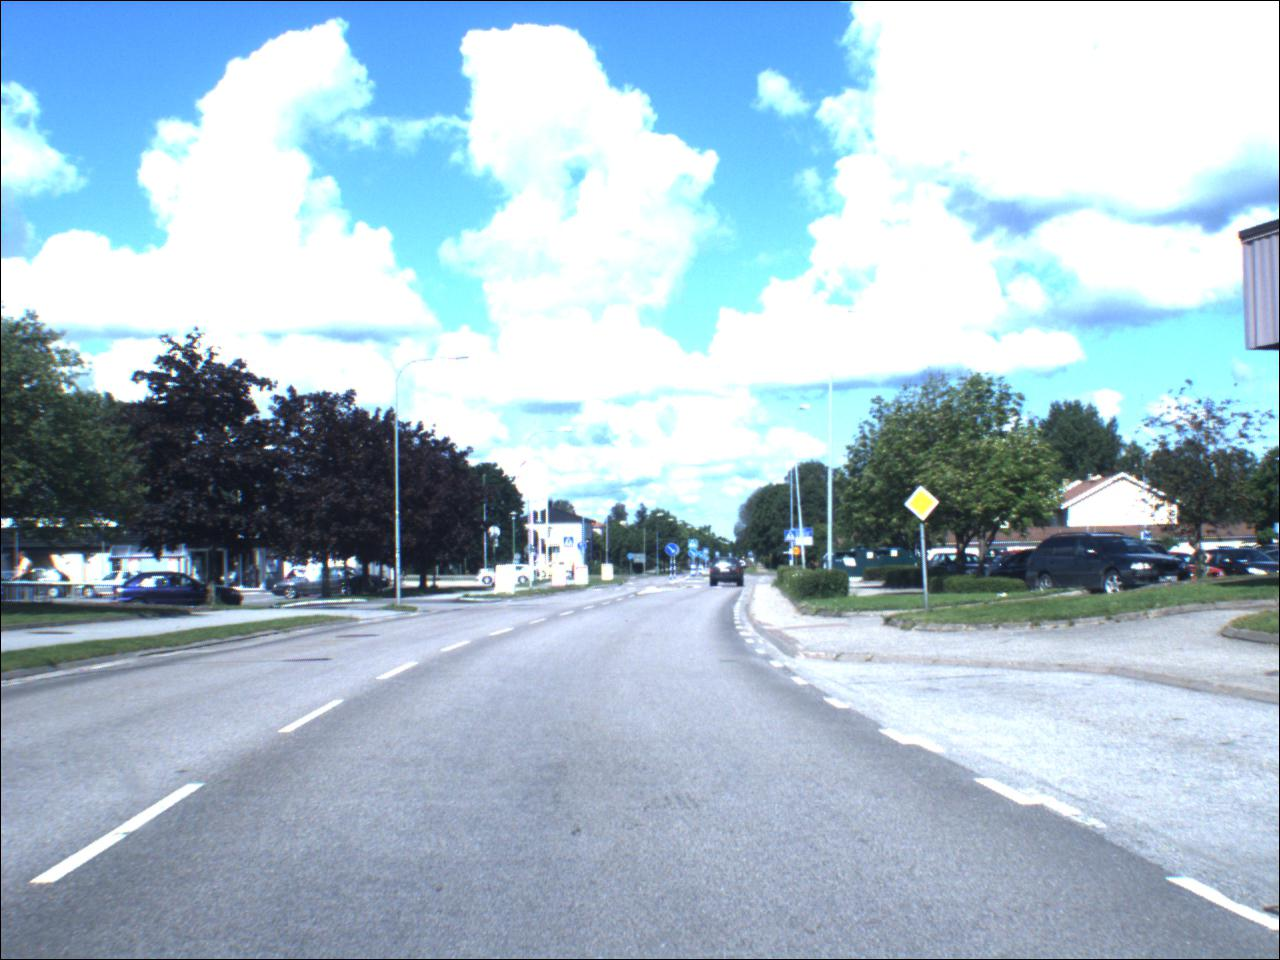50_SIGN: (792, 546, 805, 560)
PASS_RIGHT_SIDE: (667, 544, 683, 559), (690, 551, 699, 561), (705, 558, 711, 564), (700, 554, 705, 561)
PEDESTRIAN_CROSSING: (786, 530, 798, 544), (690, 541, 701, 552), (566, 538, 577, 549), (705, 549, 712, 557)
PRIORITY_ROAD: (905, 486, 943, 524)
